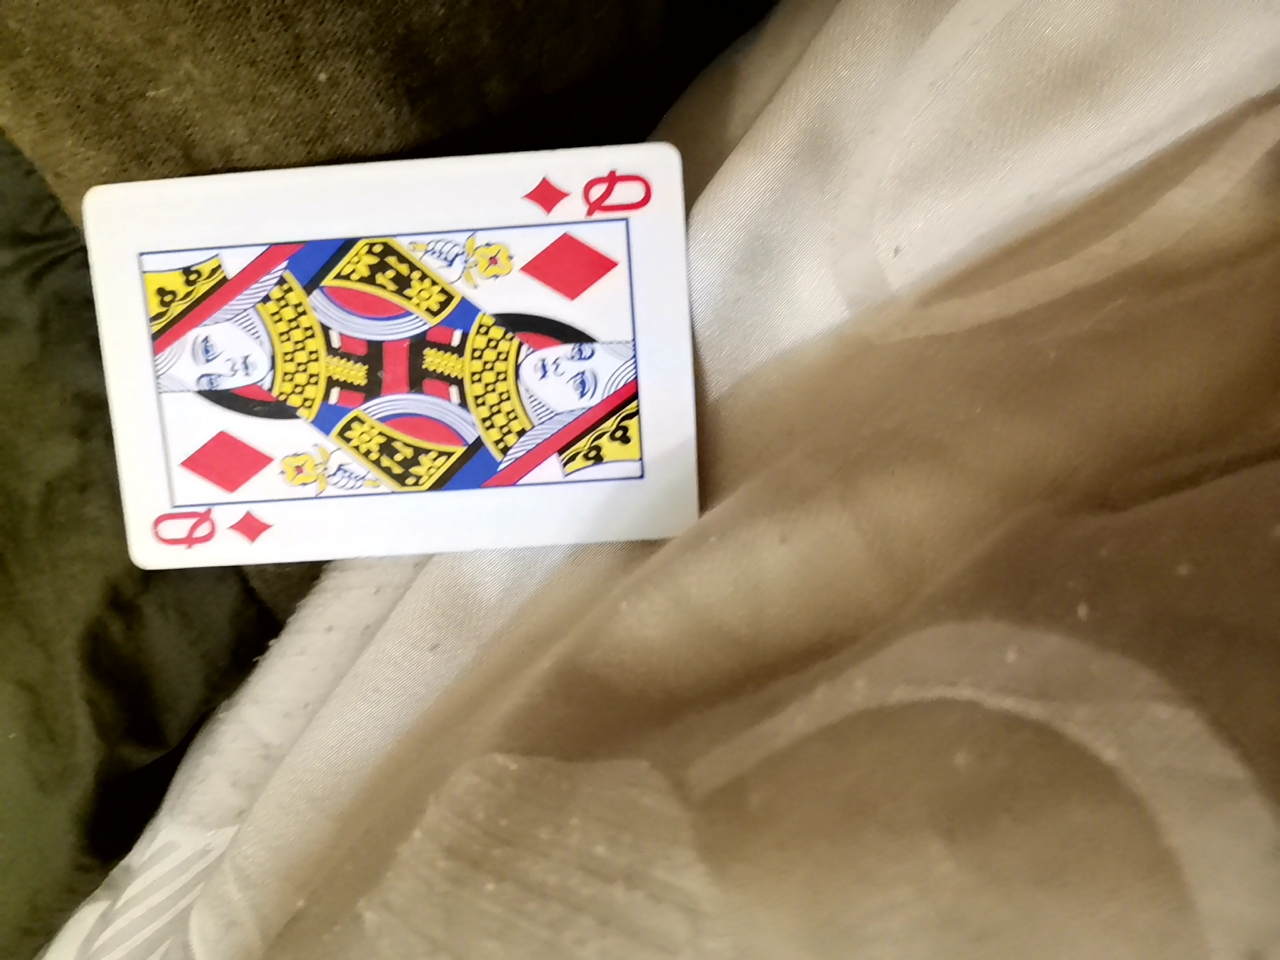fk q: (87, 134, 712, 588)
